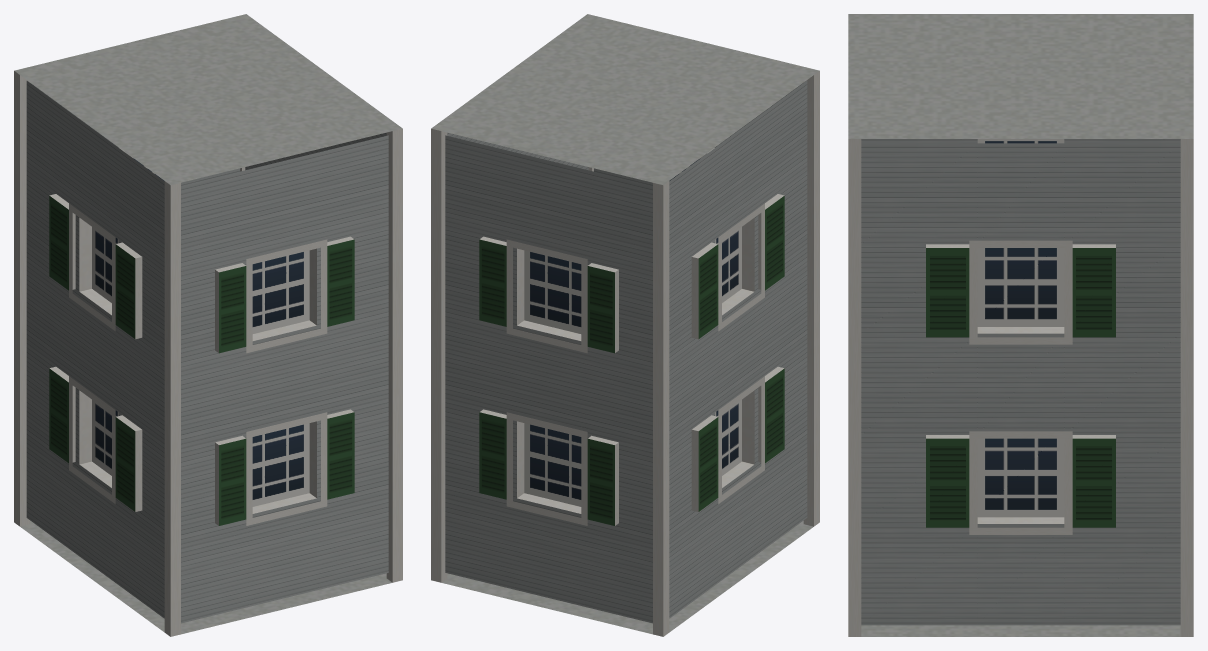
File: bldg-row-clapboard-a.glb
3 views of the same model, side by side, from view 1: azimuth 30°, elevation 25°; view 2: azimuth 150°, elevation 25°; view 3: azimuth 270°, elevation 25° (orthographic). The views are drawn at different scales.
Visible parts, largest first — view 1: bldg-row-clapboard-a; view 2: bldg-row-clapboard-a; view 3: bldg-row-clapboard-a.
Part boxes in pixels (bbox=[...]): bldg-row-clapboard-a: bbox=[14, 14, 402, 636]; bldg-row-clapboard-a: bbox=[431, 14, 819, 636]; bldg-row-clapboard-a: bbox=[848, 14, 1193, 636].
Bounding box in the file's own units: 1.02 × 1.9 × 1.19.
Materials: 5 (5 with a texture image).
